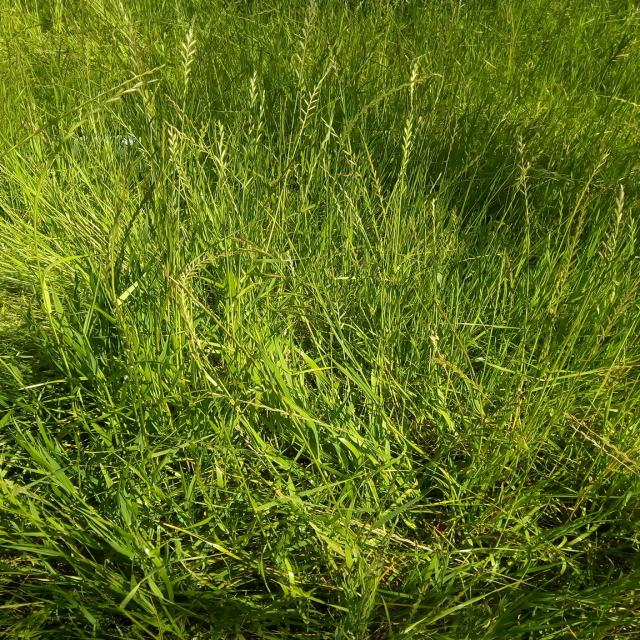Lolium: (3, 132, 637, 637), (353, 61, 450, 380), (220, 394, 350, 434), (173, 250, 262, 304), (600, 184, 625, 260), (298, 70, 330, 124), (167, 130, 194, 193), (173, 27, 198, 90), (299, 79, 325, 122), (513, 136, 530, 194), (397, 119, 416, 170)
